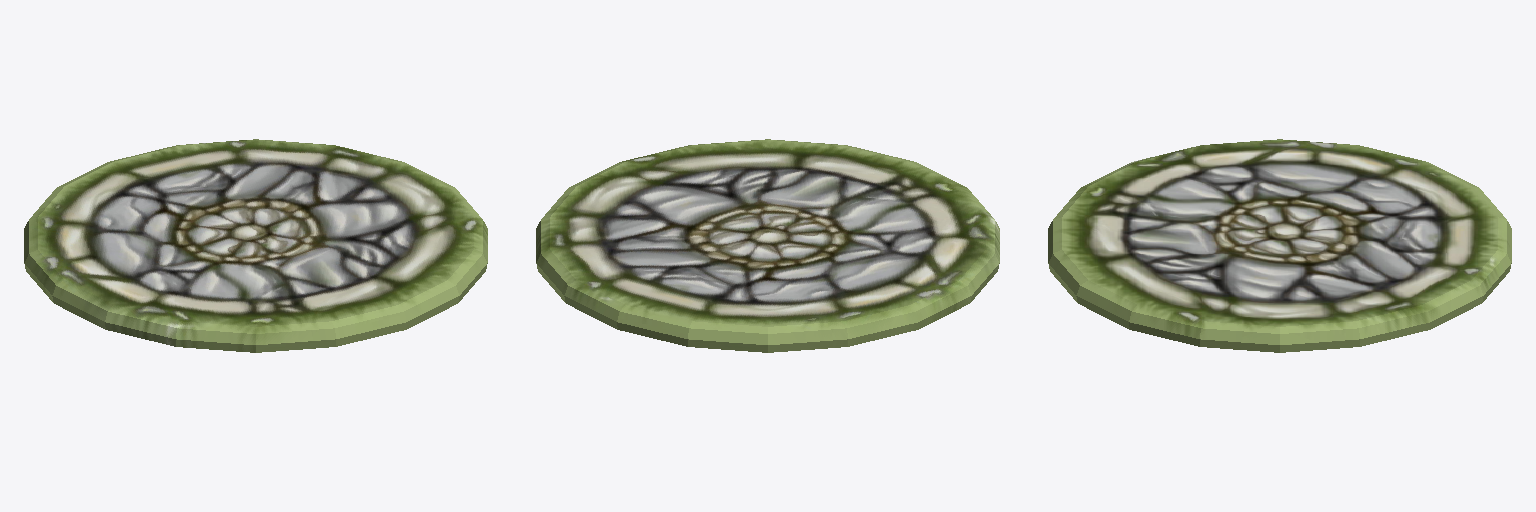
3 renders of one model, left to right at view 1: azimuth 30°, elevation 25°; view 2: azimuth 150°, elevation 25°; view 3: azimuth 270°, elevation 25°, orthographic.
Visible parts, largest first — view 1: mesh01; view 2: mesh01; view 3: mesh01.
Boxes of the visible parts, x1,y1,x2,y2 form: mesh01: [24, 139, 487, 352]; mesh01: [536, 139, 999, 352]; mesh01: [1048, 139, 1511, 352].
Bounding box in the file's own units: 74.69 × 7.92 × 73.55.
1 materials, 1 textured.